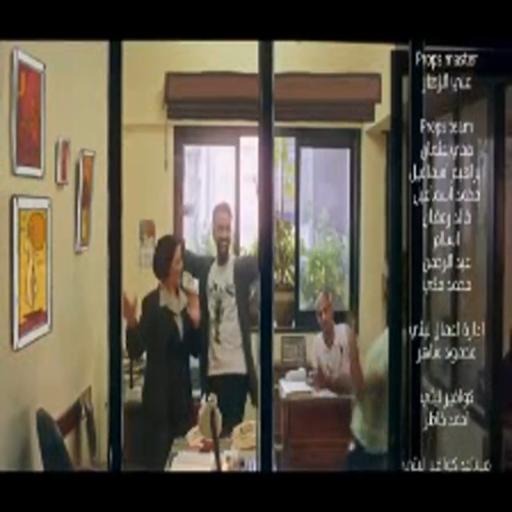nao-violencia: (120, 175, 261, 471)
